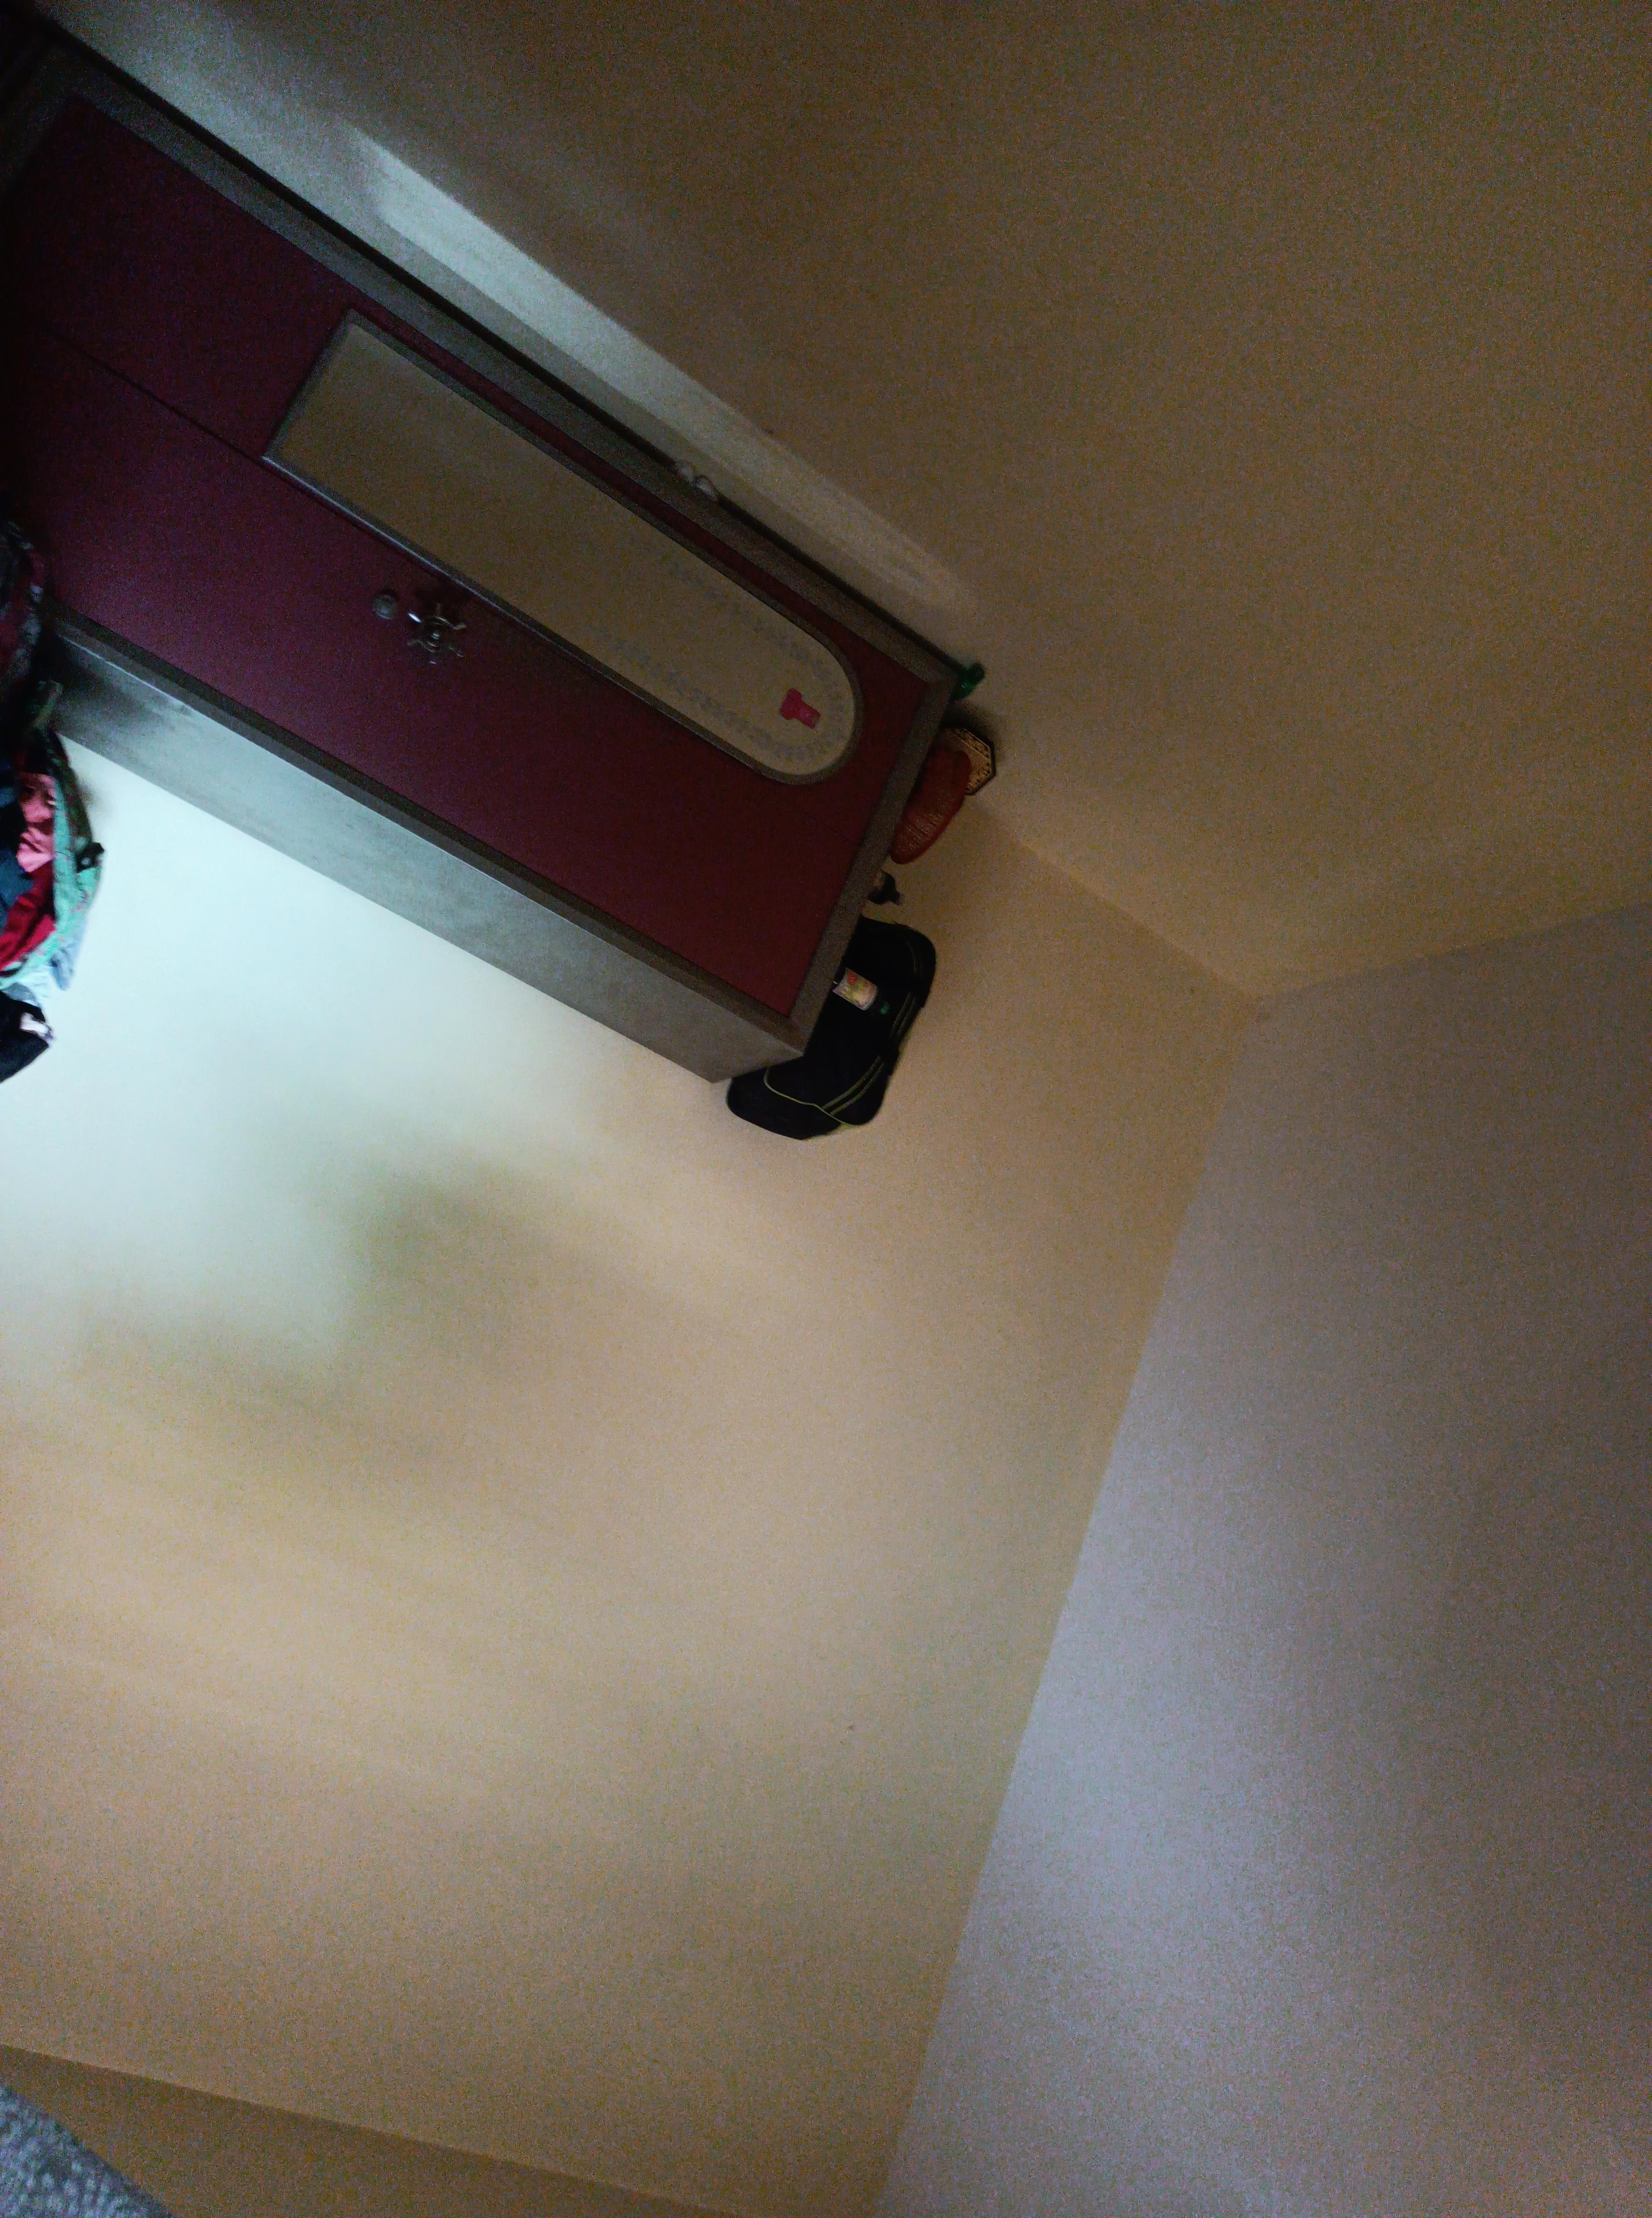suitcase: (729, 915, 939, 1144)
